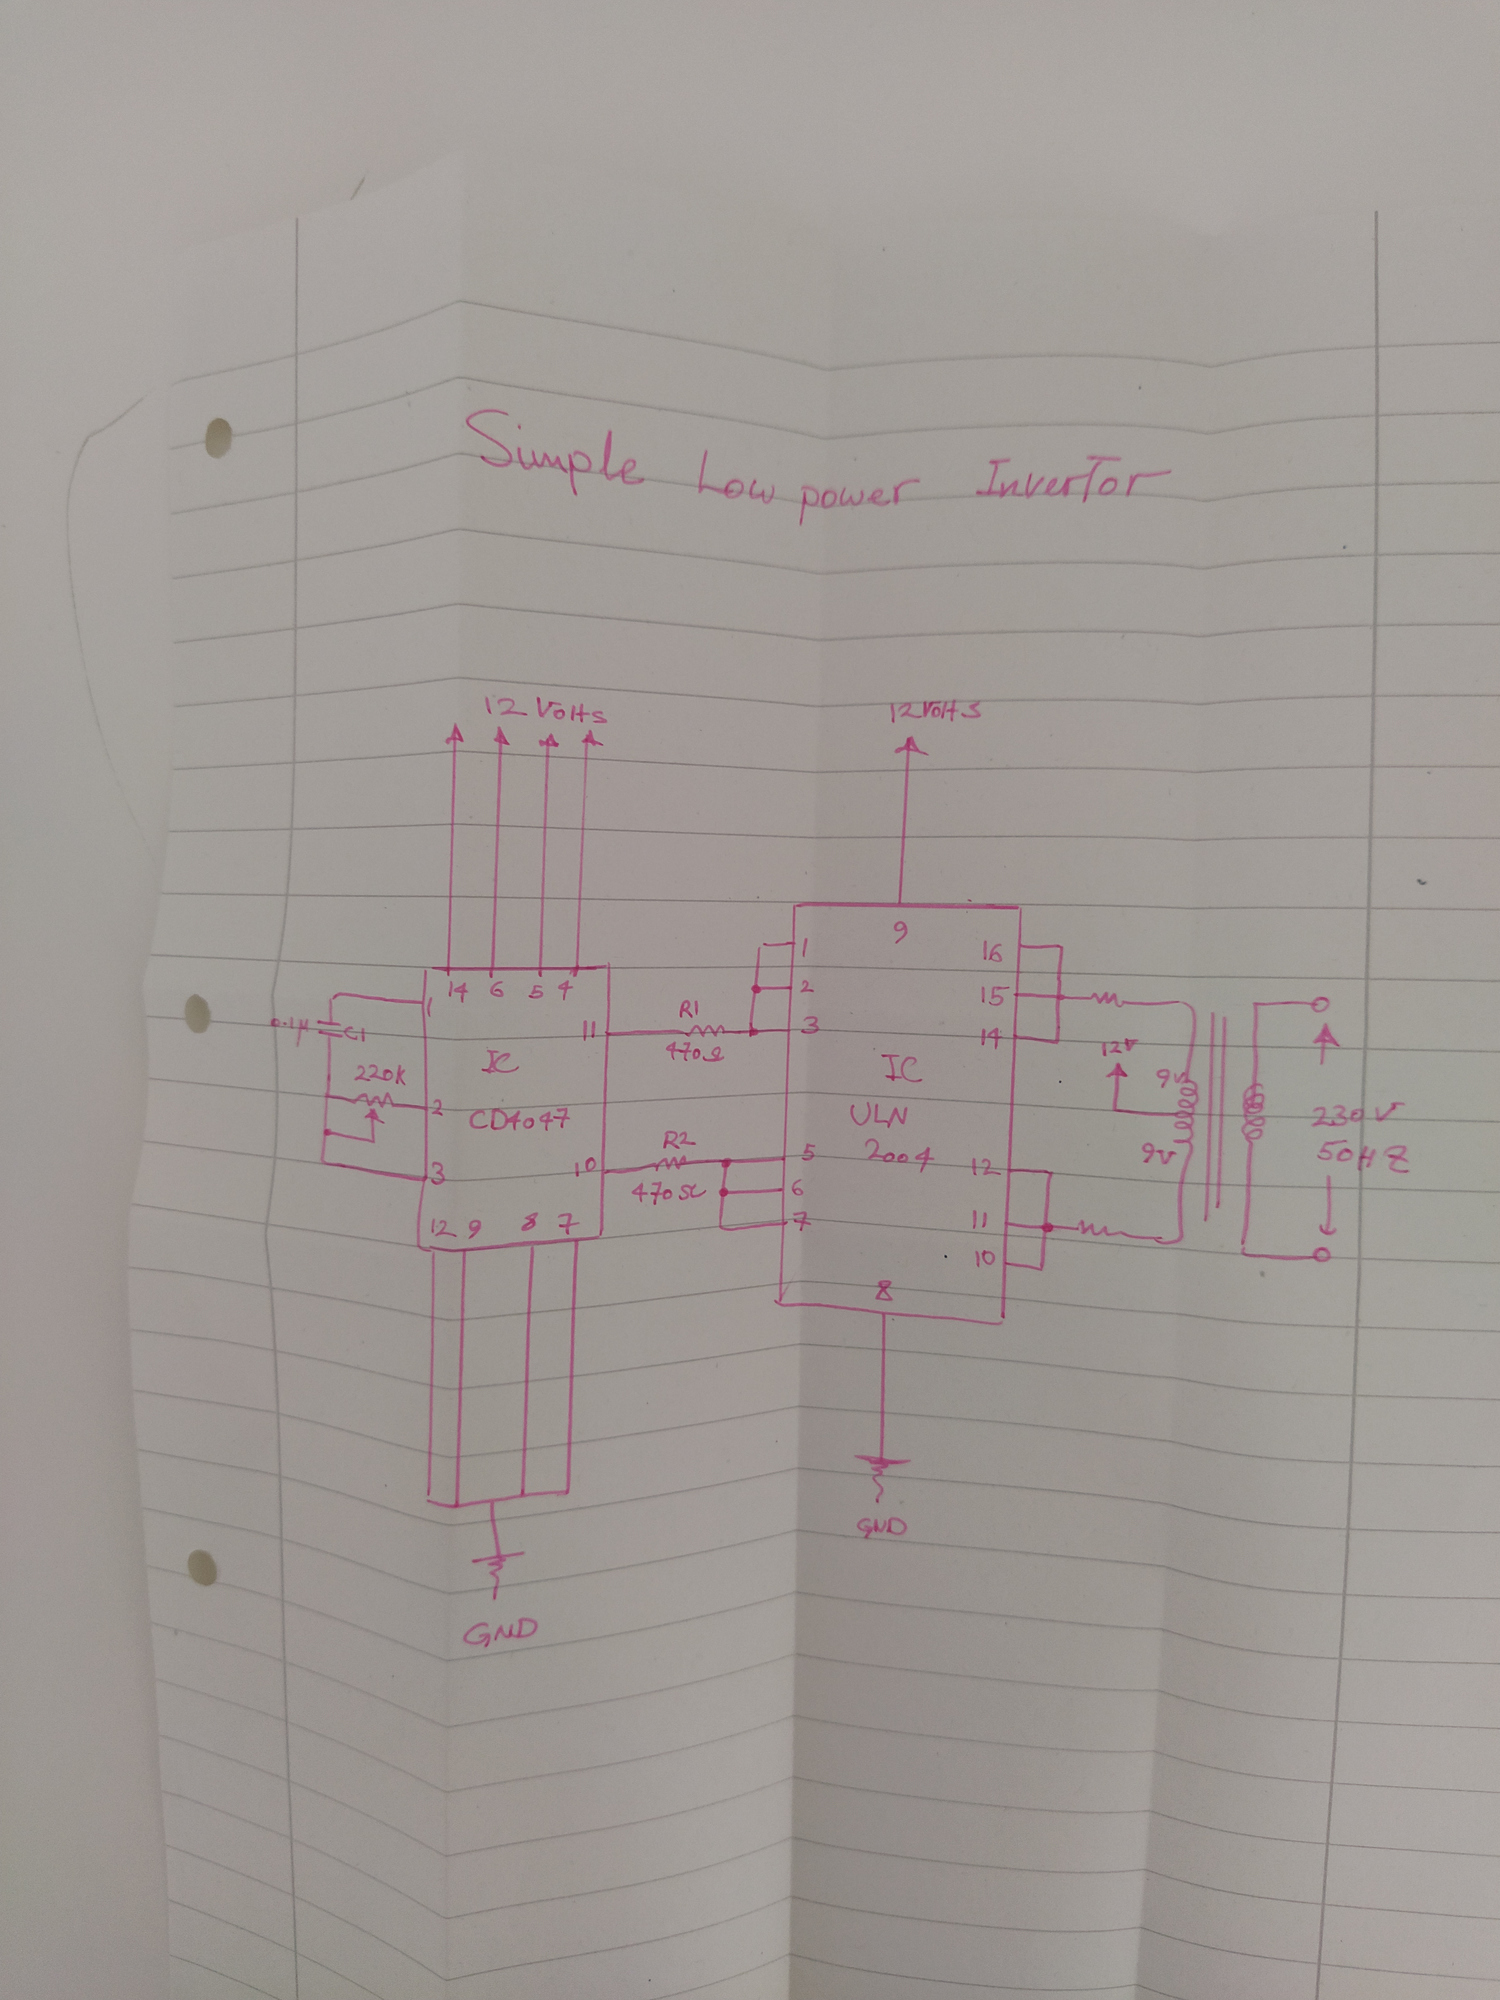capacitor.unpolarized: (314, 1016, 343, 1043)
gnd: (851, 1452, 912, 1506), (470, 1546, 525, 1602)
integrated_circuit: (769, 898, 1027, 1331), (413, 957, 614, 1257)
junction: (1160, 1231, 1190, 1249), (1235, 1239, 1253, 1261), (1177, 998, 1201, 1013), (1034, 1261, 1051, 1277), (325, 989, 342, 1005), (1037, 1220, 1056, 1235), (718, 1154, 734, 1170), (1051, 991, 1068, 1005), (745, 1024, 759, 1039), (1041, 1165, 1057, 1180), (320, 1124, 336, 1139), (317, 1154, 332, 1169), (717, 1220, 733, 1235), (1108, 1102, 1123, 1117), (1049, 1033, 1064, 1047), (424, 1491, 436, 1507), (748, 983, 764, 995), (1054, 942, 1068, 954), (1249, 998, 1264, 1011), (717, 1186, 731, 1198), (321, 1090, 334, 1102), (367, 1135, 380, 1146), (452, 1499, 463, 1510), (517, 1488, 528, 1499), (756, 940, 767, 951), (487, 1496, 498, 1506), (562, 1487, 574, 1496)
resistor: (1071, 1217, 1127, 1243), (674, 1024, 730, 1039), (648, 1153, 689, 1173), (1086, 991, 1130, 1009)
resistor.adjustable: (347, 1090, 403, 1126)
terminal: (1309, 1244, 1333, 1266), (1308, 995, 1333, 1016)
text: (462, 406, 1177, 529), (481, 693, 610, 728), (1316, 1137, 1412, 1176), (1308, 1099, 1409, 1129), (466, 1106, 572, 1132), (863, 1135, 936, 1173), (462, 1616, 540, 1649), (889, 696, 985, 723), (629, 1178, 709, 1206), (848, 1099, 911, 1129), (879, 1050, 926, 1085), (663, 1039, 728, 1065), (854, 1513, 909, 1542), (353, 1061, 408, 1087), (269, 1014, 310, 1047), (479, 1047, 522, 1076), (1141, 1140, 1177, 1167), (660, 1128, 700, 1150), (1098, 1036, 1139, 1057), (971, 1154, 1005, 1178), (978, 983, 1010, 1008), (429, 1216, 460, 1241), (555, 1209, 583, 1236), (572, 1153, 599, 1180), (1153, 1068, 1185, 1090), (978, 1025, 1004, 1052), (982, 939, 1005, 965), (518, 1208, 542, 1235), (789, 1208, 813, 1233), (446, 980, 470, 1005), (342, 1024, 367, 1046), (972, 1247, 997, 1269), (890, 918, 911, 945), (429, 1159, 447, 1187), (797, 1014, 821, 1036), (678, 998, 701, 1020), (463, 1217, 485, 1241), (874, 1279, 895, 1302), (971, 1206, 989, 1231), (580, 1017, 599, 1043), (488, 980, 507, 1000), (800, 1142, 818, 1164), (556, 980, 574, 1002), (526, 983, 545, 1002), (789, 1176, 807, 1197), (429, 1098, 446, 1118), (797, 978, 816, 994), (799, 935, 811, 957), (425, 995, 435, 1019)
transformer: (1171, 1009, 1270, 1224)
vss: (892, 732, 933, 759), (443, 720, 466, 743), (578, 728, 605, 746), (490, 724, 512, 746), (537, 731, 562, 750), (1105, 1061, 1130, 1080)
